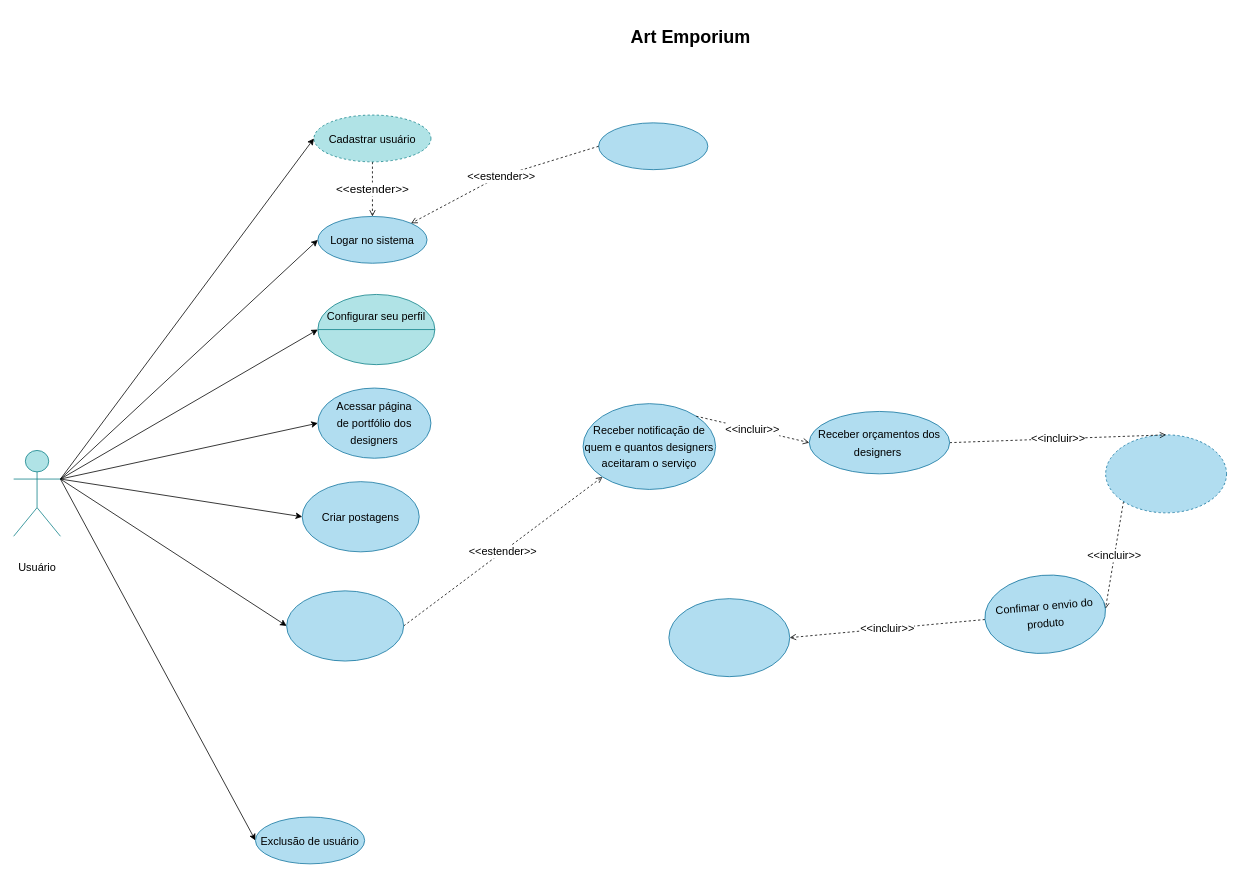
The diagram is 1240 pixels wide and 877 high, and some of its shapes have lost their labels. Here are the shapes that lost their labels. From the top down, the centre of each, then its label:
the point at 653,146: Redefinir senha
the point at 1166,473: Escolher um dos orçamentos feitos por um do designers
the point at 345,625: Solicitar serviço
the point at 729,637: Confirmar o pagamento
